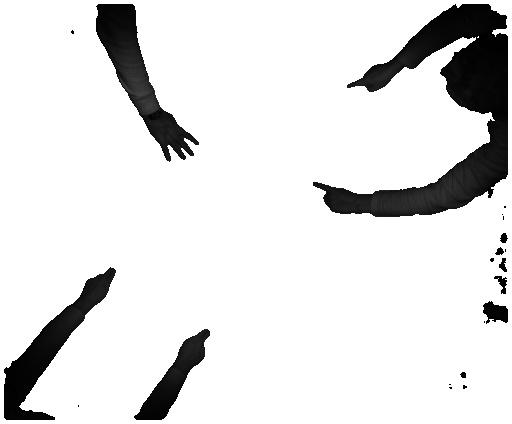hand: (151, 115, 199, 167), (312, 178, 364, 215), (344, 61, 394, 95), (82, 264, 119, 309), (177, 328, 215, 371)
